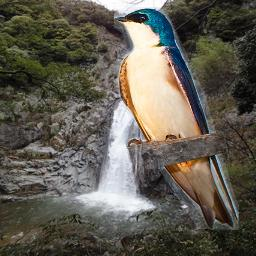Swallow: (114, 7, 239, 230)
